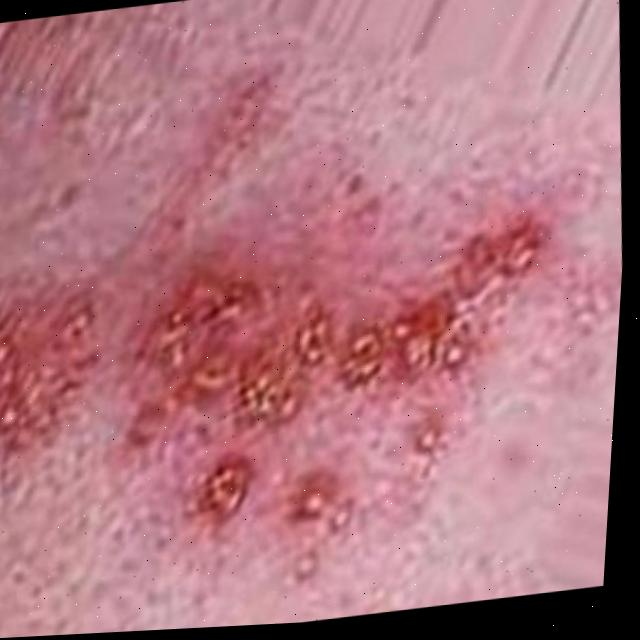Shingles: (105, 216, 567, 544), (0, 284, 106, 462)
